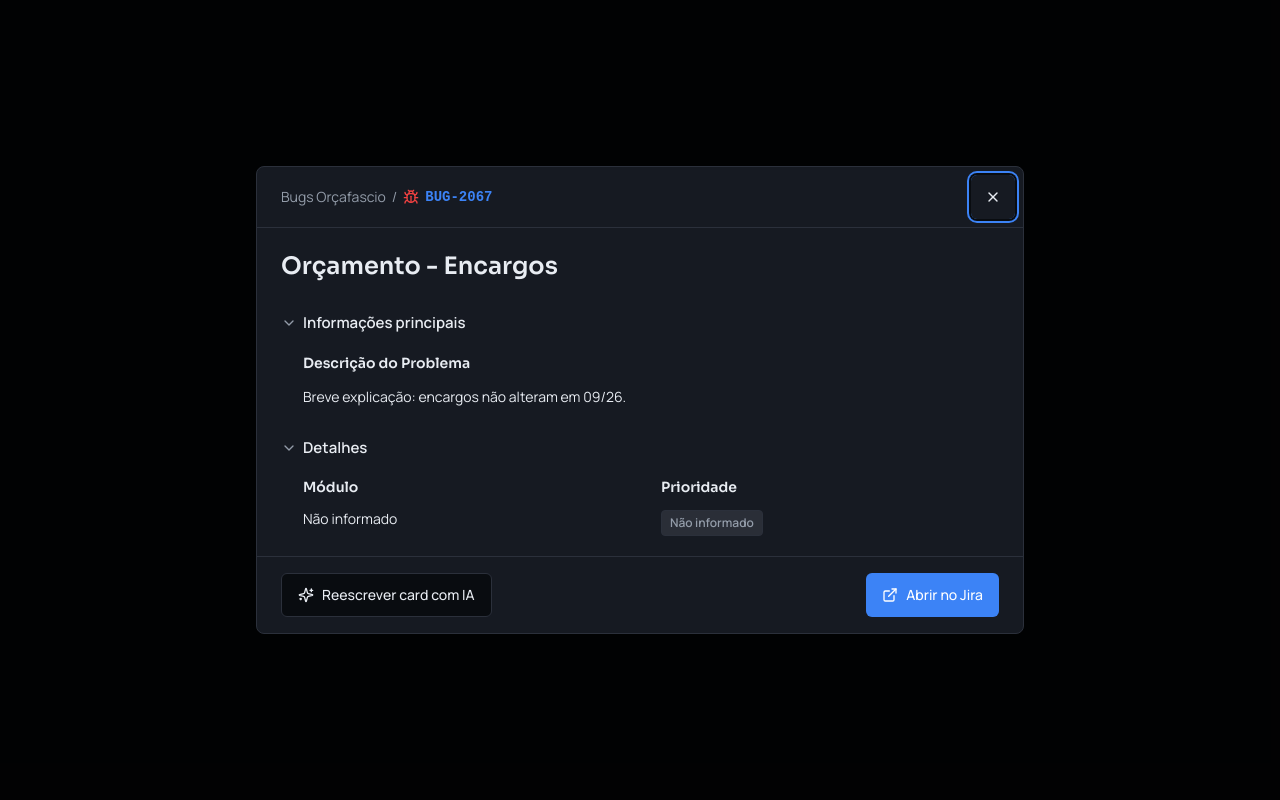
Scenario: Modal do card com reescrita › manda para a ponte a descrição do Jira, mesmo sem descrição no sync
The width and height of the screenshot is (1280, 800).
Click the button "Reescrever card com IA" at (386, 595), box [281,573,492,617]
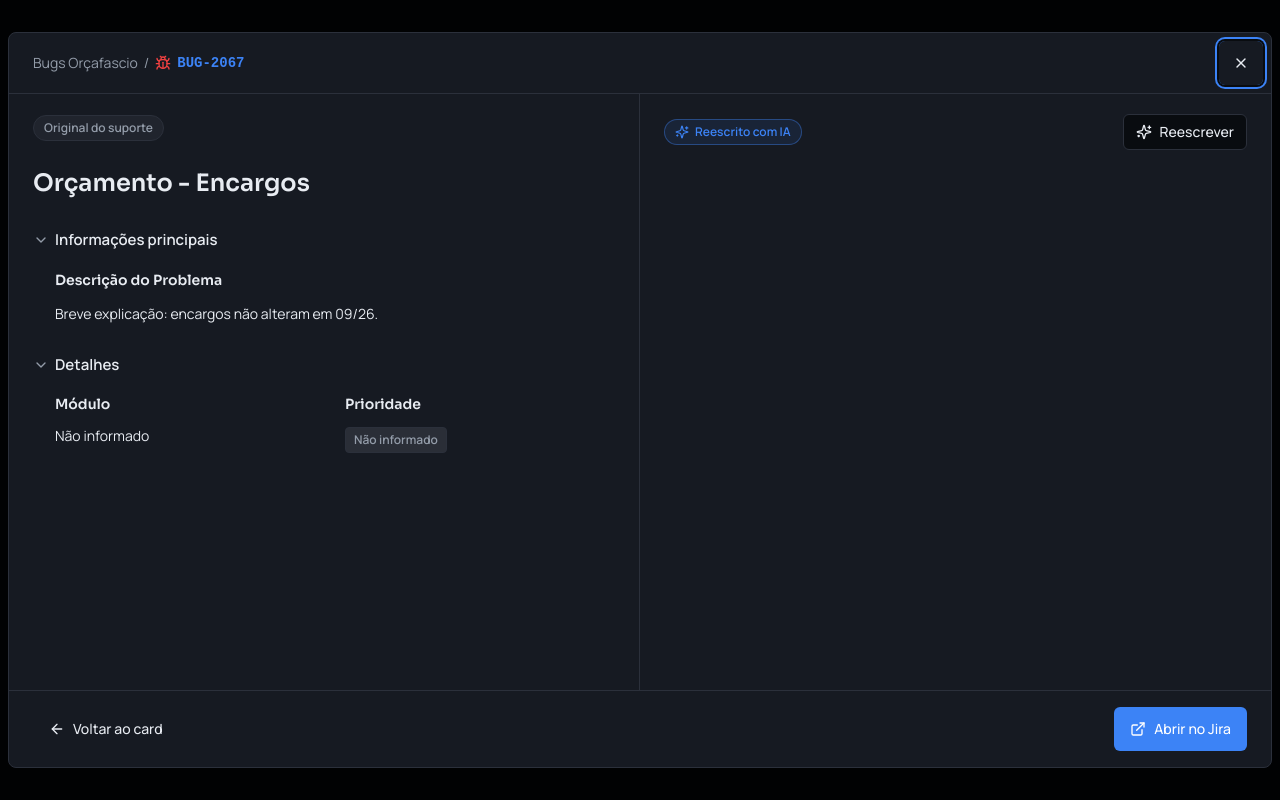
expect the text "Breve explicação: encargos não alteram em 09/26." is shown: met, box [55,304,378,322]
expect the element named "Card reescrito" is shown: met, box [664,114,1247,150]
